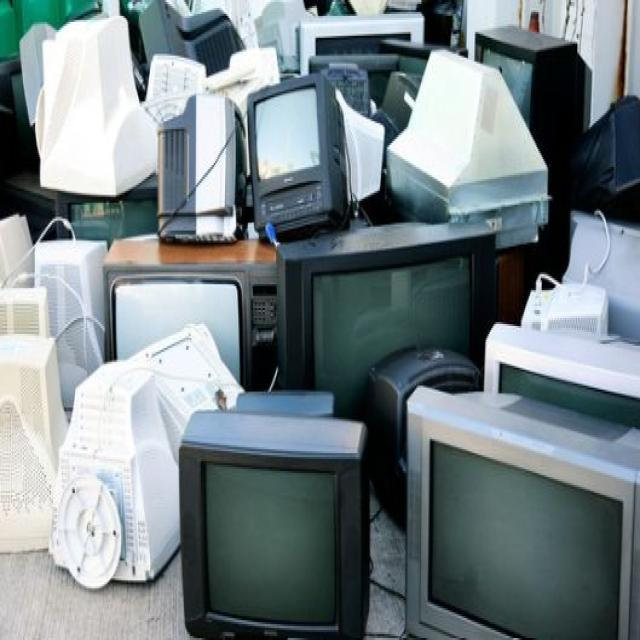electronic: (393, 361, 640, 640), (179, 385, 374, 640), (384, 40, 570, 279), (51, 337, 188, 626), (28, 10, 164, 218), (232, 69, 368, 252), (137, 71, 255, 281)
